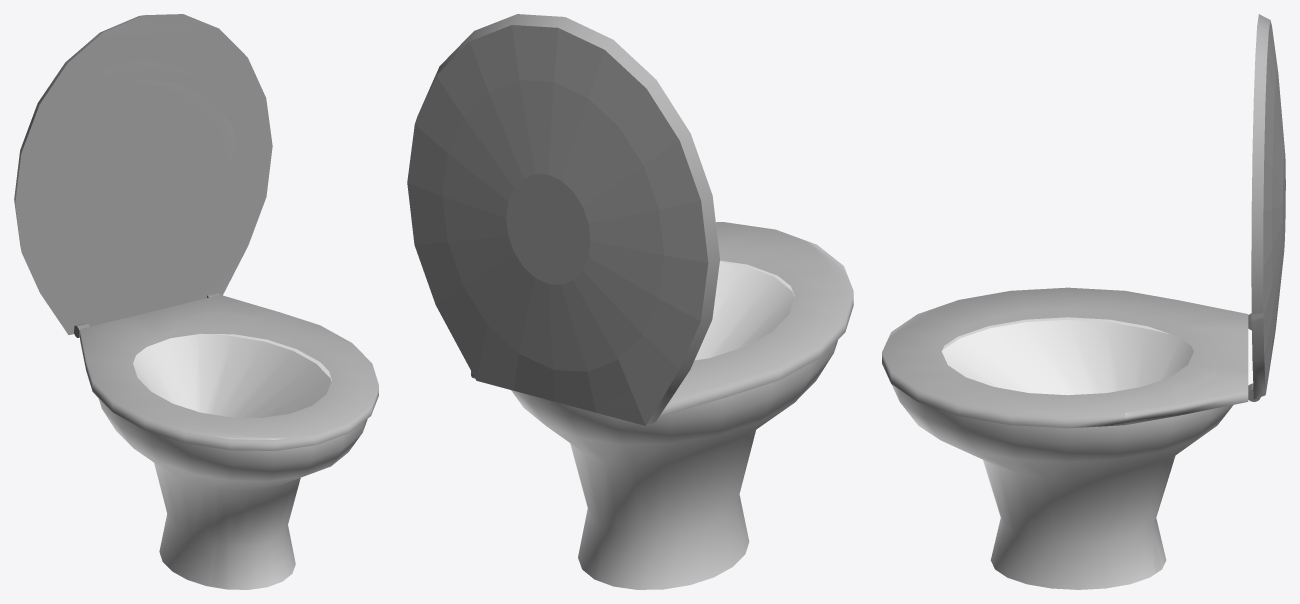
File: toilet.fbx
3 renders of one model, left to right at view 1: azimuth 30°, elevation 25°; view 2: azimuth 150°, elevation 25°; view 3: azimuth 270°, elevation 25°, orthographic. The views are drawn at different scales.
Parts seen in each view (by area): view 1: wc_bril, toilet; view 2: wc_bril, toilet; view 3: toilet, wc_bril.
Boxes of the visible parts, bbox=[...] form: wc_bril: bbox=[14, 14, 378, 450]; toilet: bbox=[98, 333, 367, 589]; wc_bril: bbox=[407, 14, 853, 425]; toilet: bbox=[511, 260, 837, 589]; toilet: bbox=[891, 317, 1233, 589]; wc_bril: bbox=[882, 14, 1285, 428].
Size of the model in its own units: 90.73 by 169 by 114.
2 materials, 2 textured.
